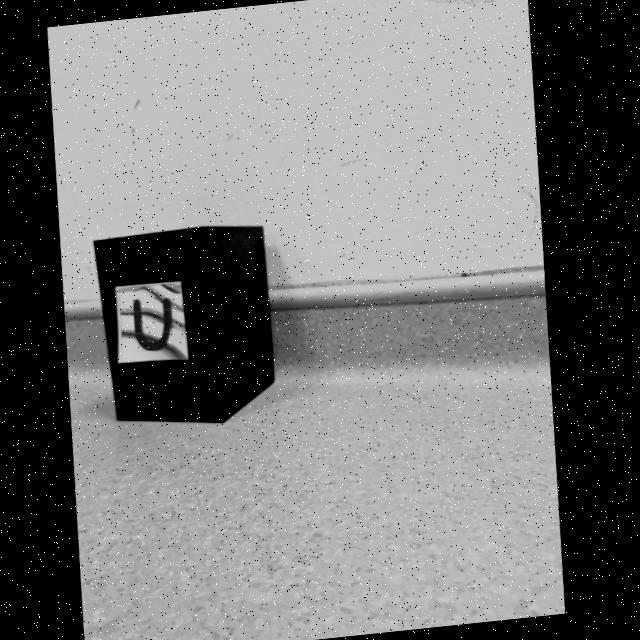U: (137, 297, 174, 350)
